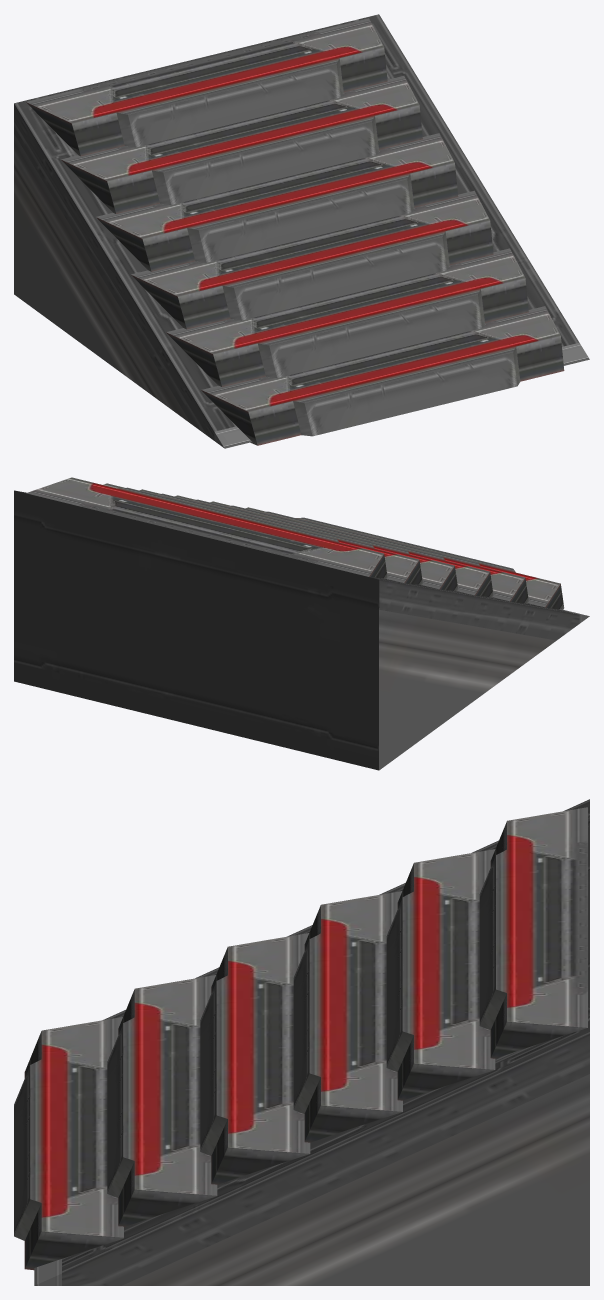
Rendered from Platform_Stairs_2.glb.
3 views of the same model, one above another, from view 1: azimuth 30°, elevation 25°; view 2: azimuth 150°, elevation 25°; view 3: azimuth 270°, elevation 25° (orthographic). The views are drawn at different scales.
Parts seen in each view (by area): view 1: Platform_Stairs_2; view 2: Platform_Stairs_2; view 3: Platform_Stairs_2.
Boxes of the visible parts, <box> form: Platform_Stairs_2: <box>14,14,589,448</box>; Platform_Stairs_2: <box>14,477,589,770</box>; Platform_Stairs_2: <box>14,799,589,1285</box>.
Size of the model in its own units: 2 by 1.01 by 2.07.
Materials: 2 (2 with a texture image).
